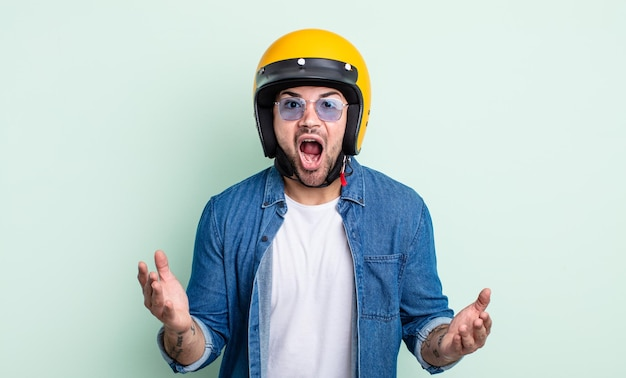helmet: (253, 29, 372, 188)
